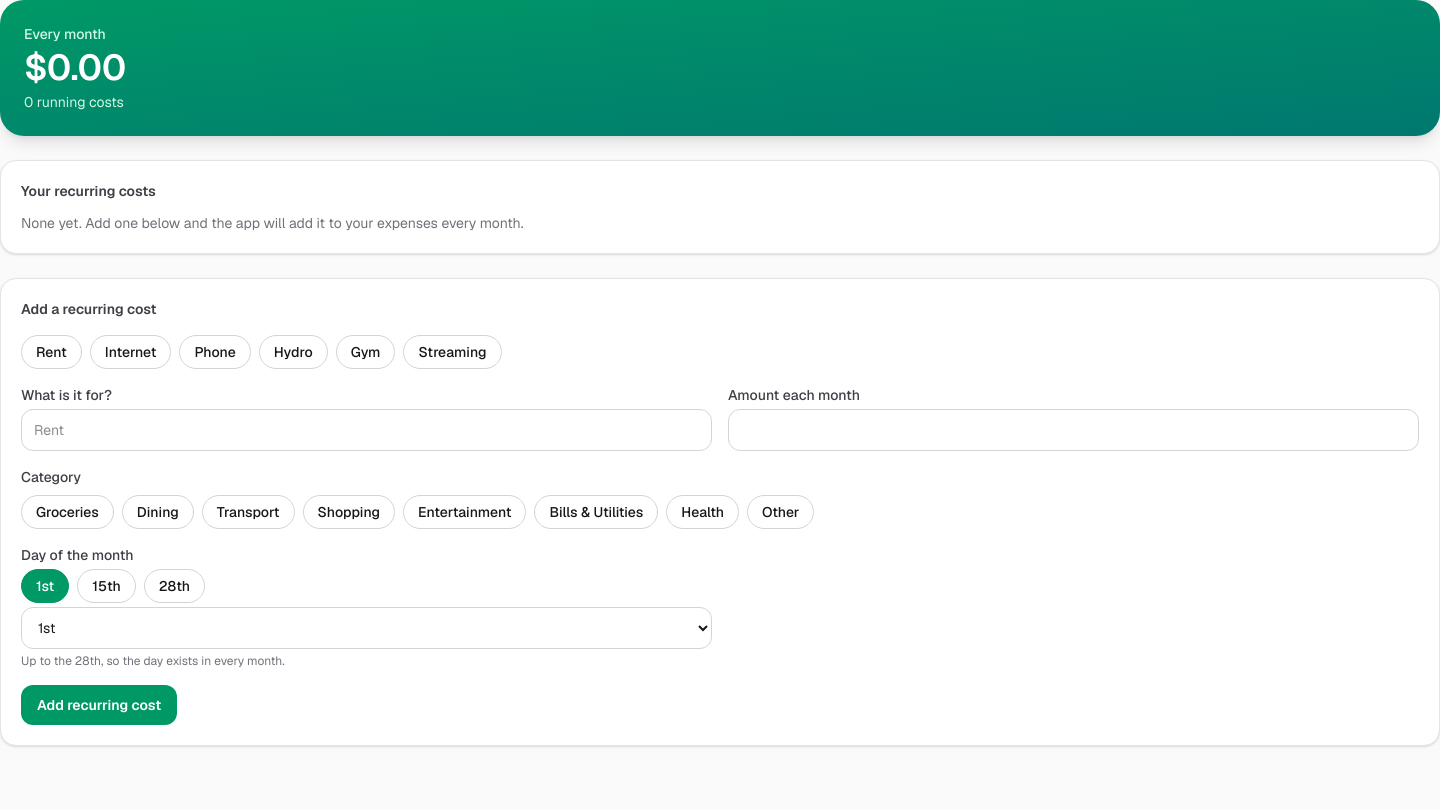
Test: adding a cost saves it and then makes any expense that is due
In the field labelled "What is it for?": (366, 430) [21,409,712,451], type "Internet"
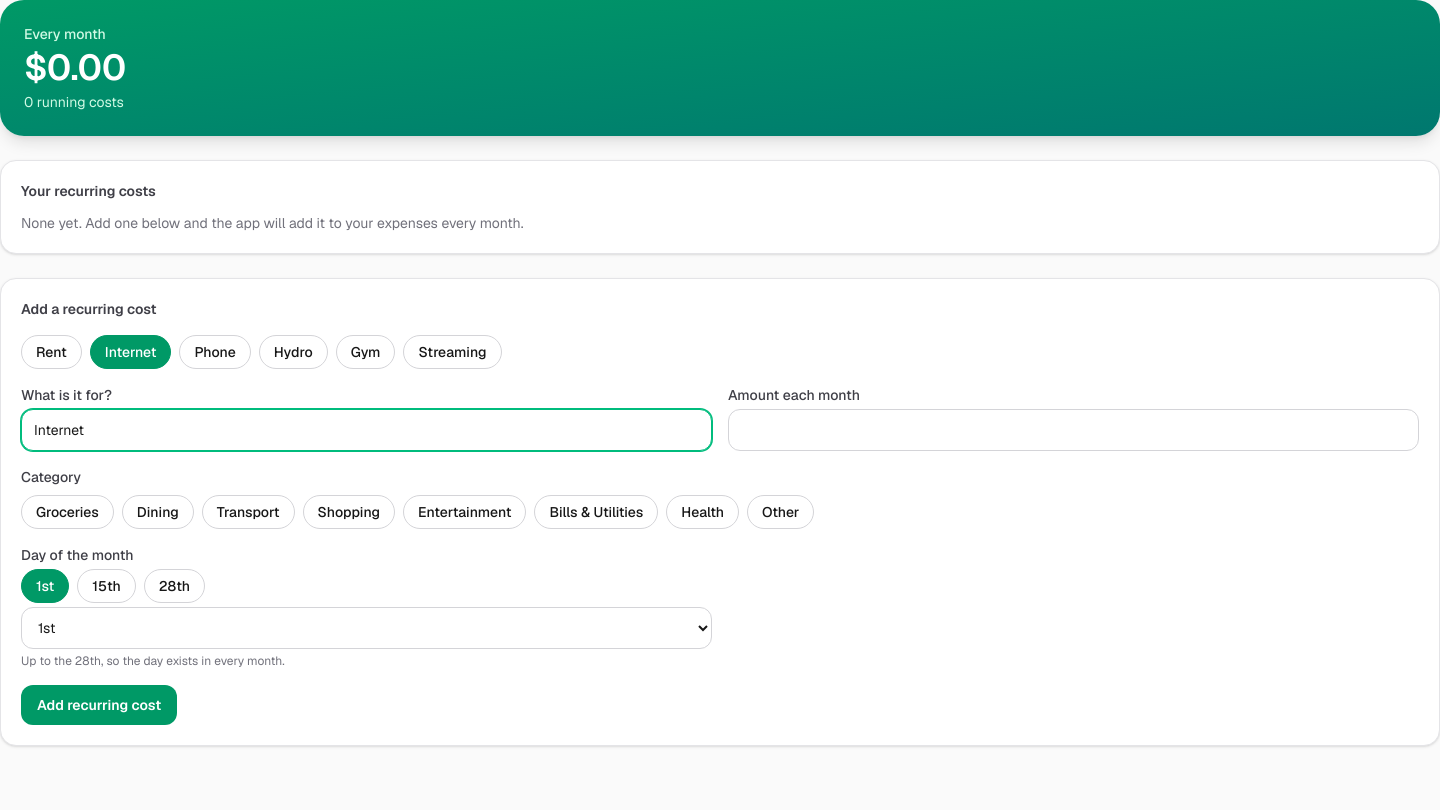
In the number field labelled "Amount each month": (1074, 430) [728,409,1419,451], type "85"
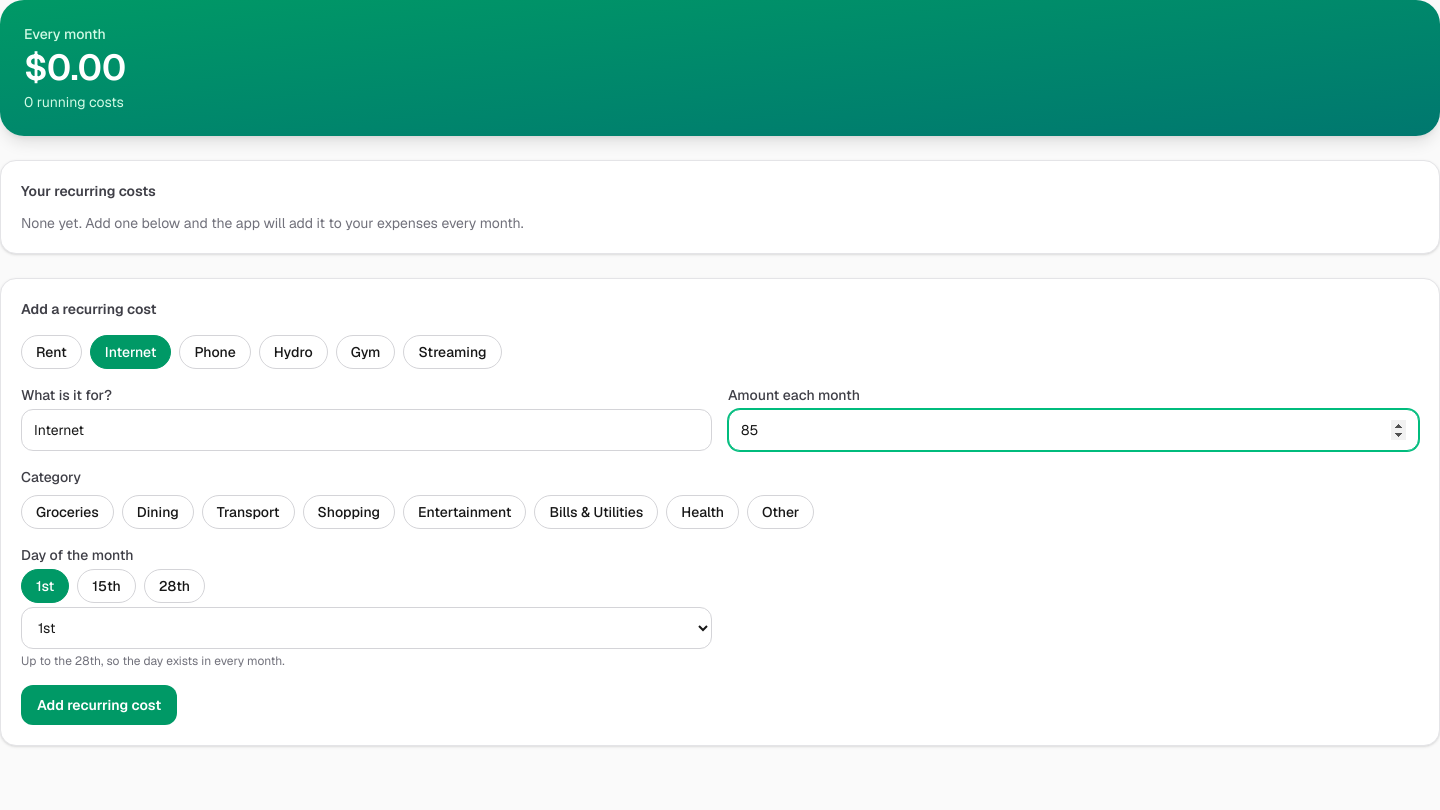
Click the button "Bills & Utilities": (596, 512) [534,495,658,529]
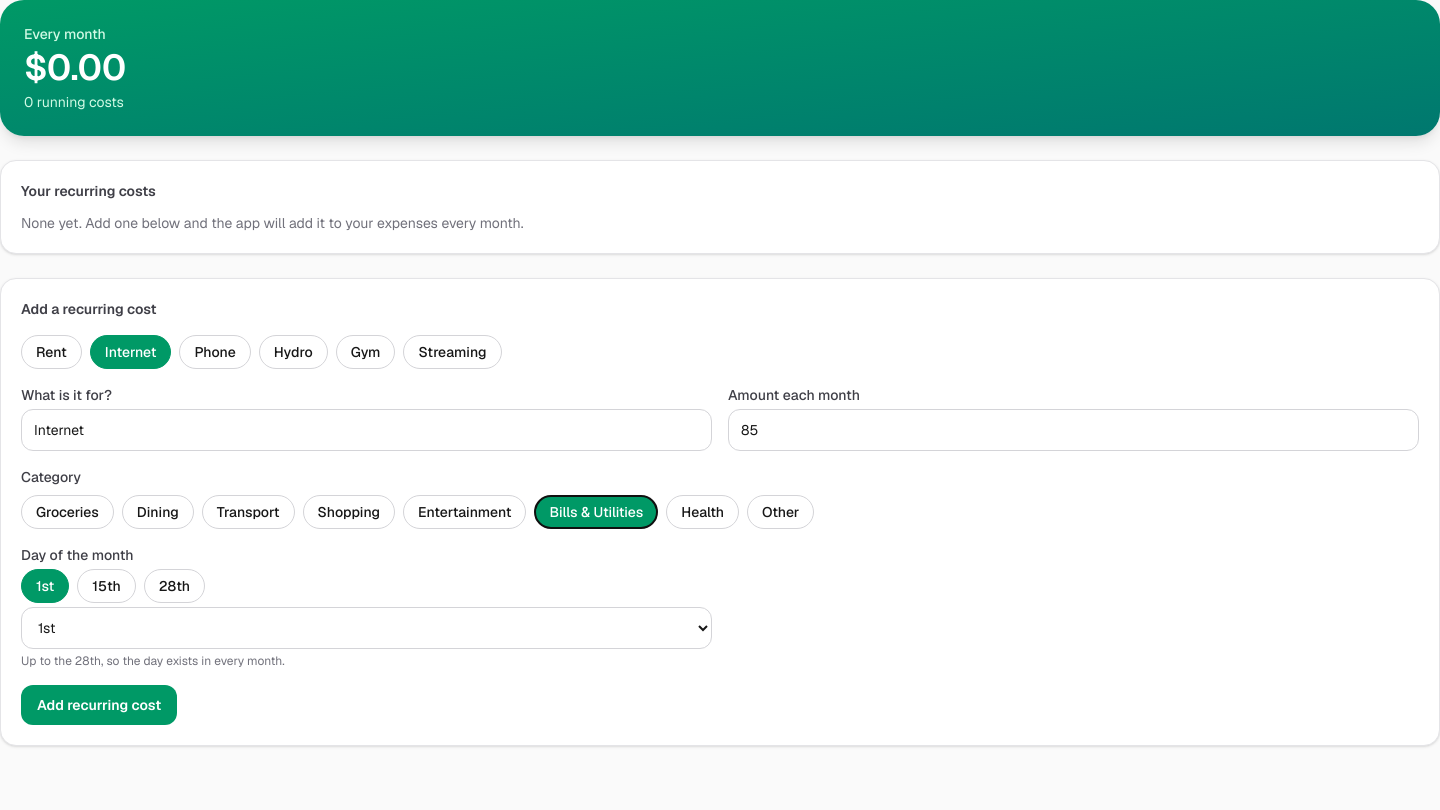
Click the button "15th": (107, 586) [77,569,136,603]
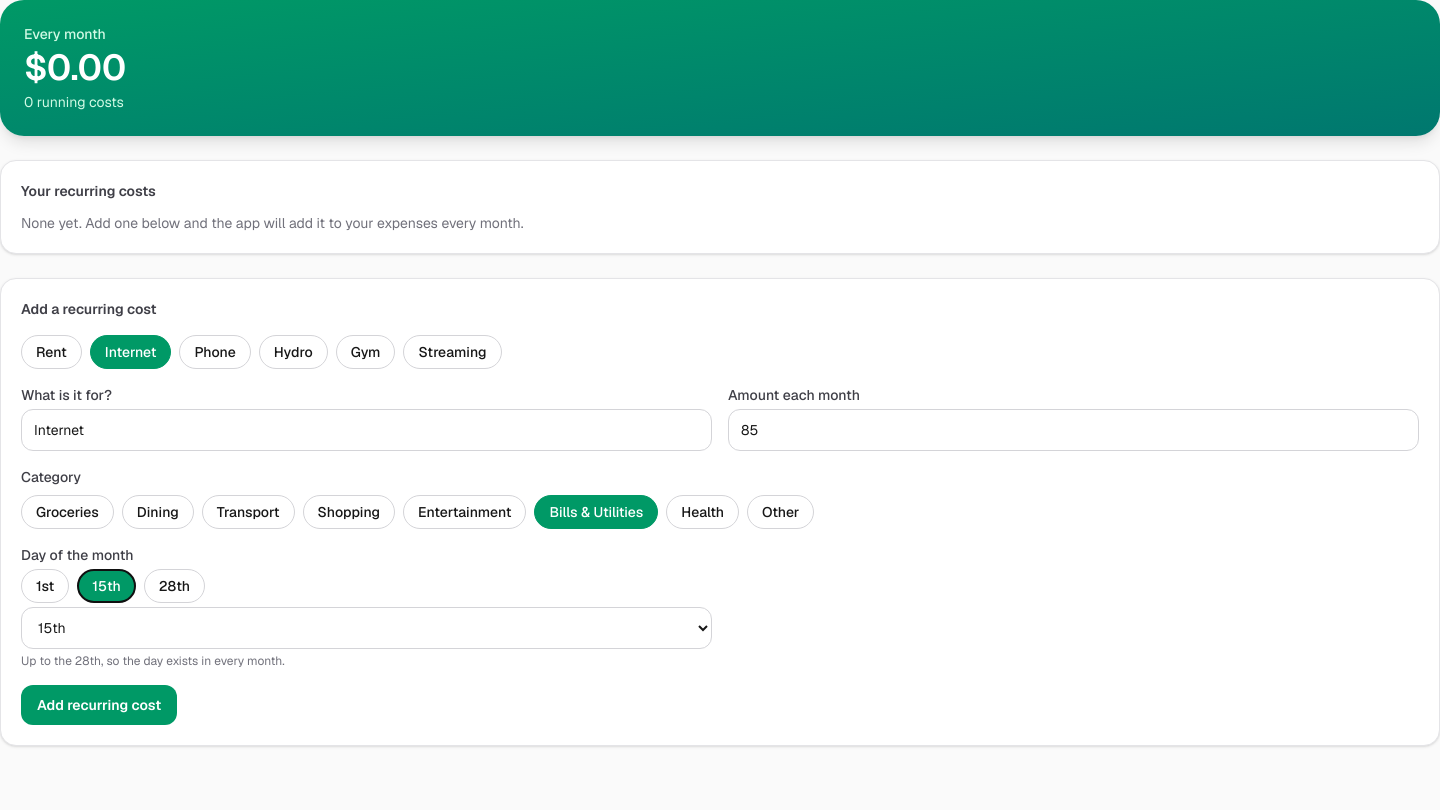
Click the button "Add recurring cost": (99, 705) [21,685,177,725]
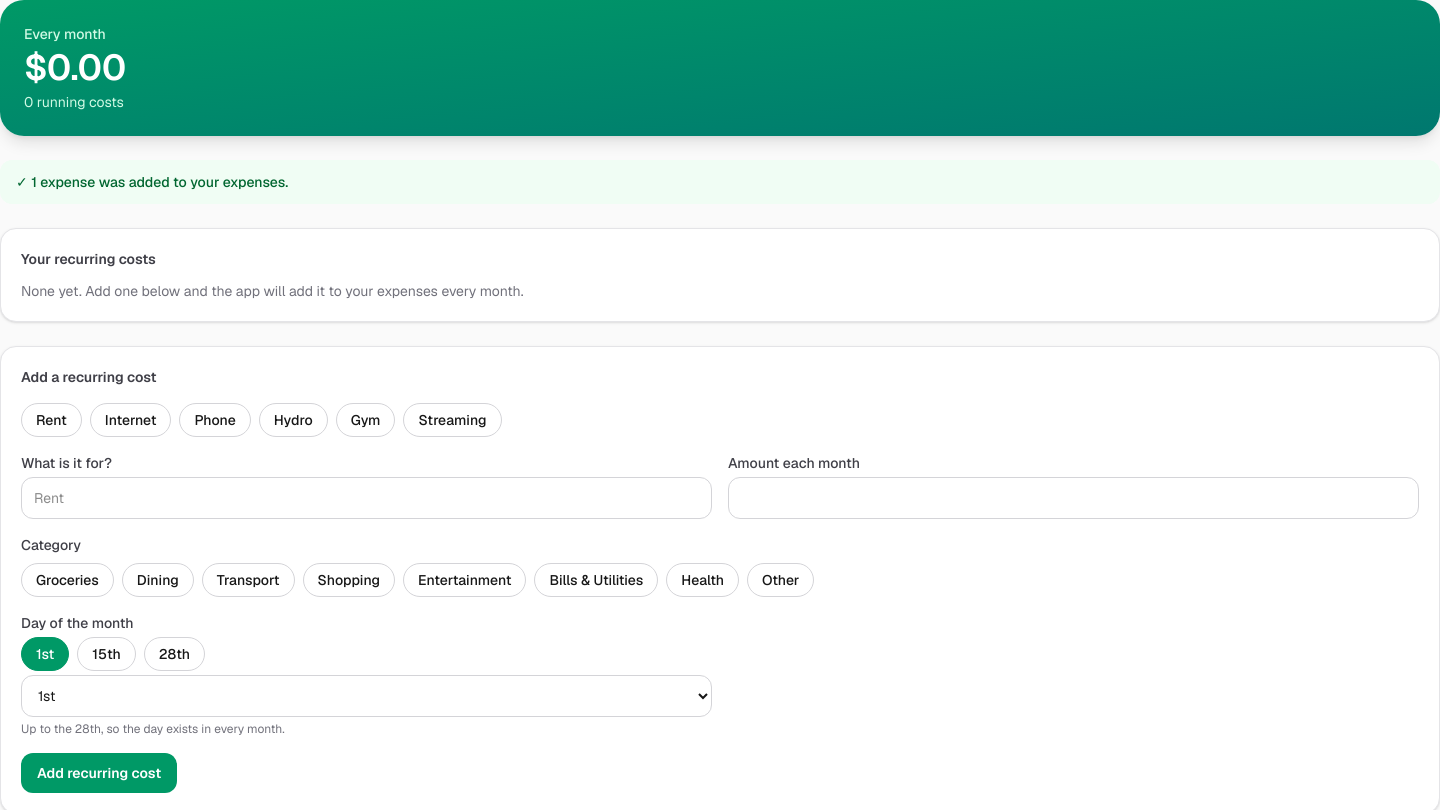
Expected: the message shows "1 expense was added to your expenses.", [31,173,288,191]
Expected: the field labelled "What is it for?" is empty, [21,477,712,519]
Expected: the number field labelled "Amount each month" is not empty, [728,477,1419,519]
